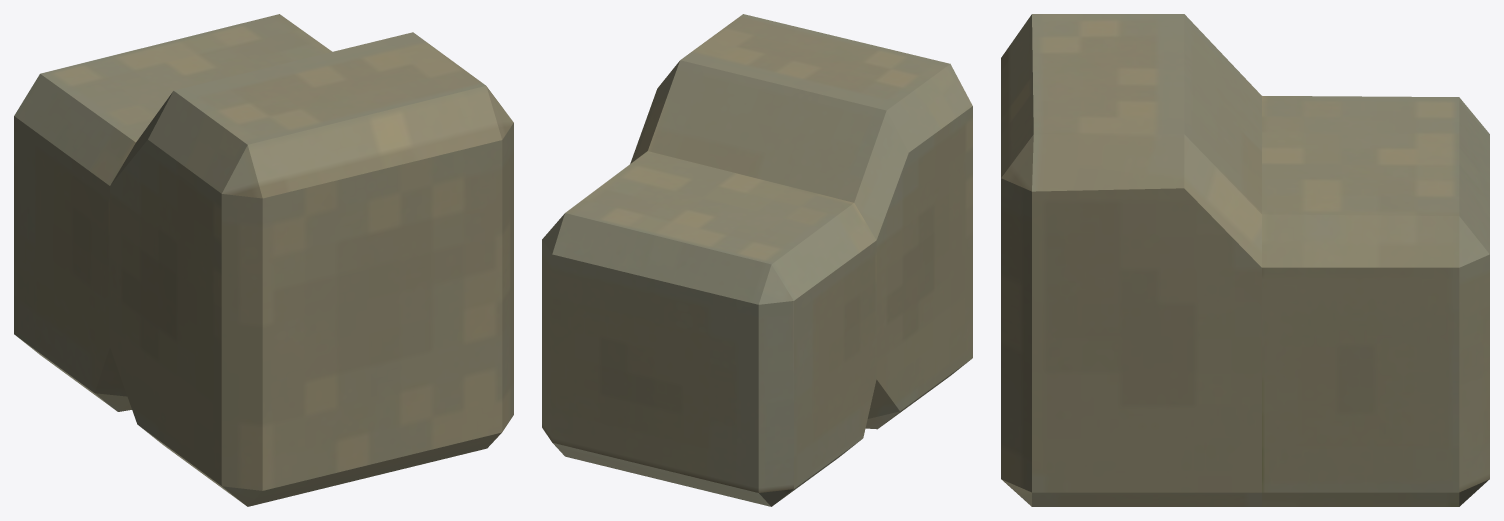
The model's file is Brick_3.fbx.
3 views of the same model, side by side, from view 1: azimuth 30°, elevation 25°; view 2: azimuth 150°, elevation 25°; view 3: azimuth 270°, elevation 25° (orthographic). The views are drawn at different scales.
Visible parts, largest first — view 1: Brick_3; view 2: Brick_3; view 3: Brick_3.
Boxes of the visible parts, x1=… form: Brick_3: x1=14, y1=14, x2=513, y2=506; Brick_3: x1=542, y1=14, x2=972, y2=506; Brick_3: x1=1001, y1=14, x2=1489, y2=506.
Bounding box in the file's own units: 98.87 × 117 × 139.
